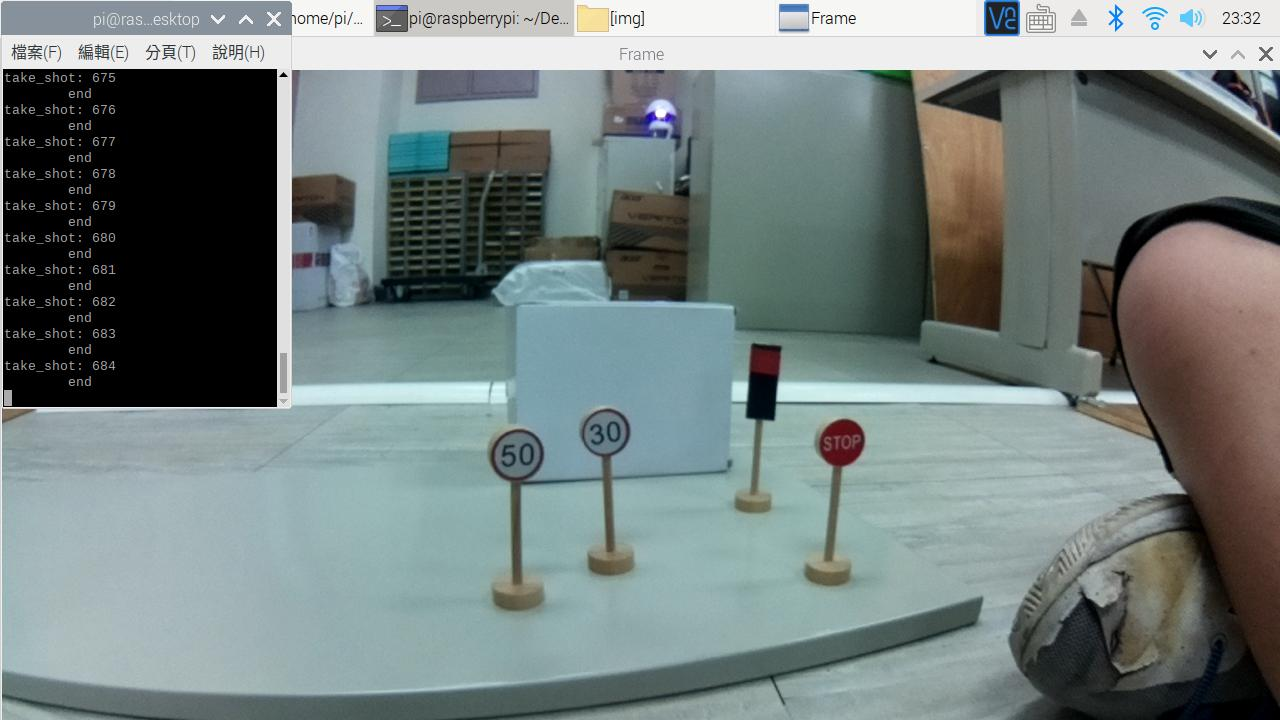Red: (737, 330, 787, 430)
Speed30: (577, 405, 635, 459)
Speed50: (487, 416, 552, 487)
Stop: (812, 405, 874, 475)
